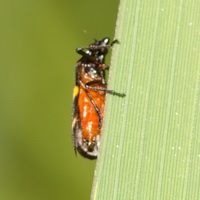insect: (72, 38, 125, 158)
